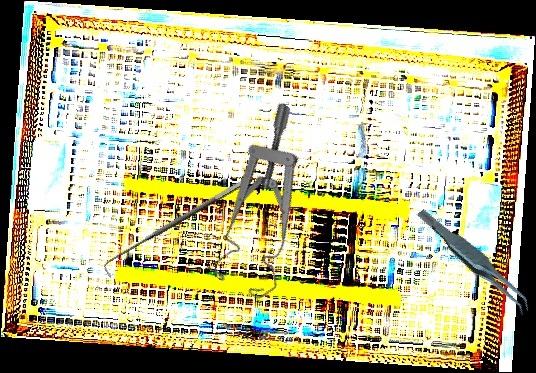Hook Surgical: (98, 173, 259, 279)
Speculum: (174, 101, 366, 309)
Tissue Forceps: (416, 190, 533, 332)
